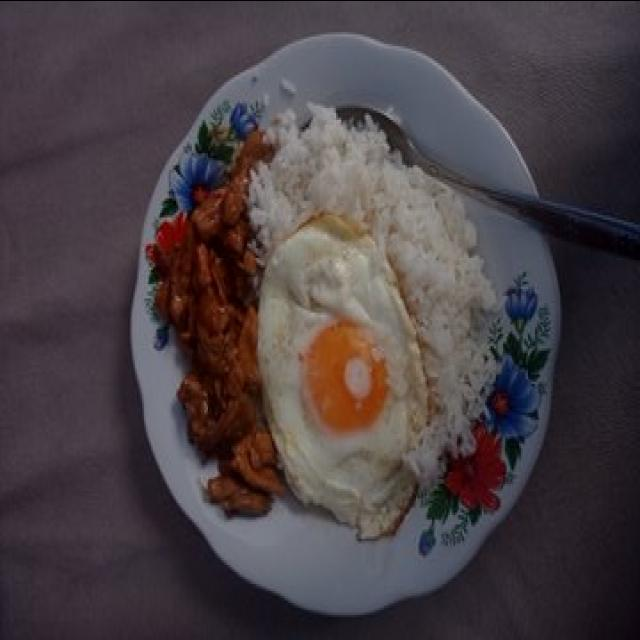telur ceplok: (260, 217, 432, 538)
